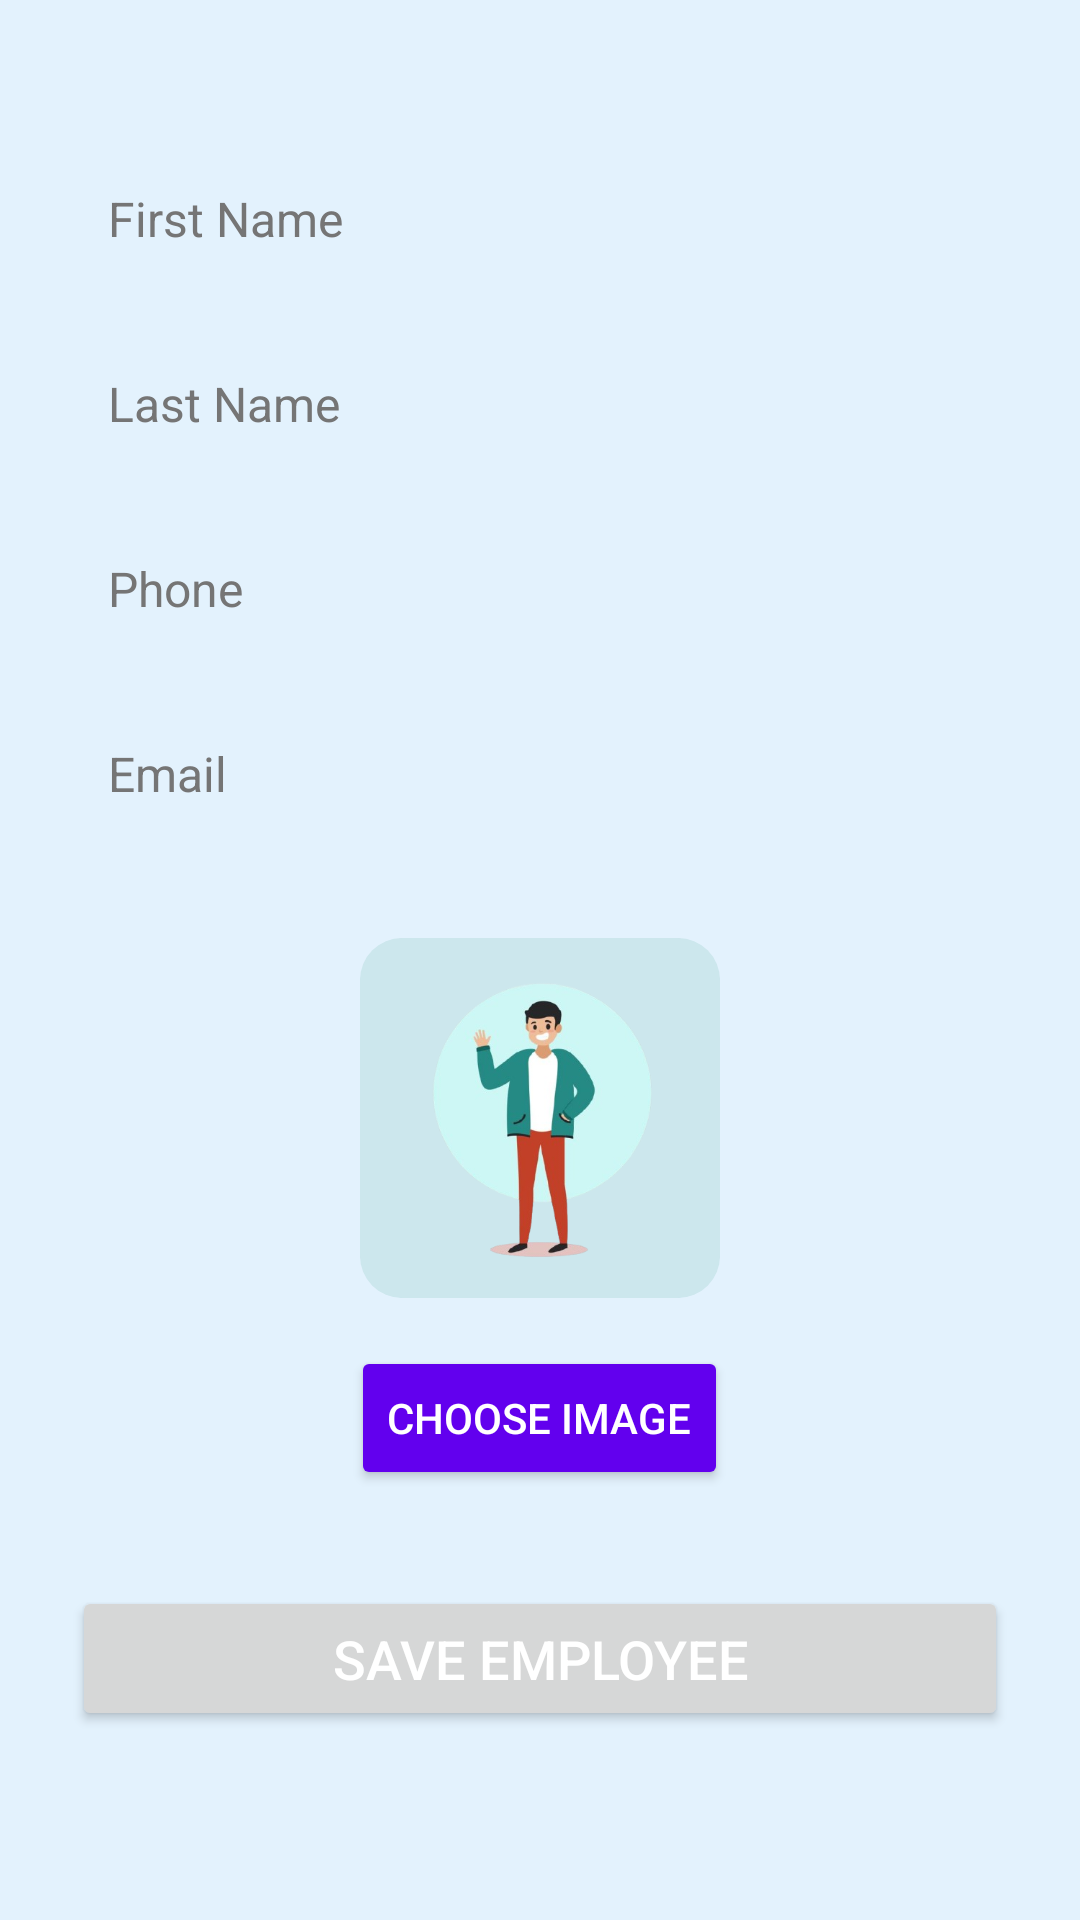

Named icons in this screenshot (1080w x 1920h) and their centers, (x=x, y=y):
Employee Image: (x=540, y=1118)
